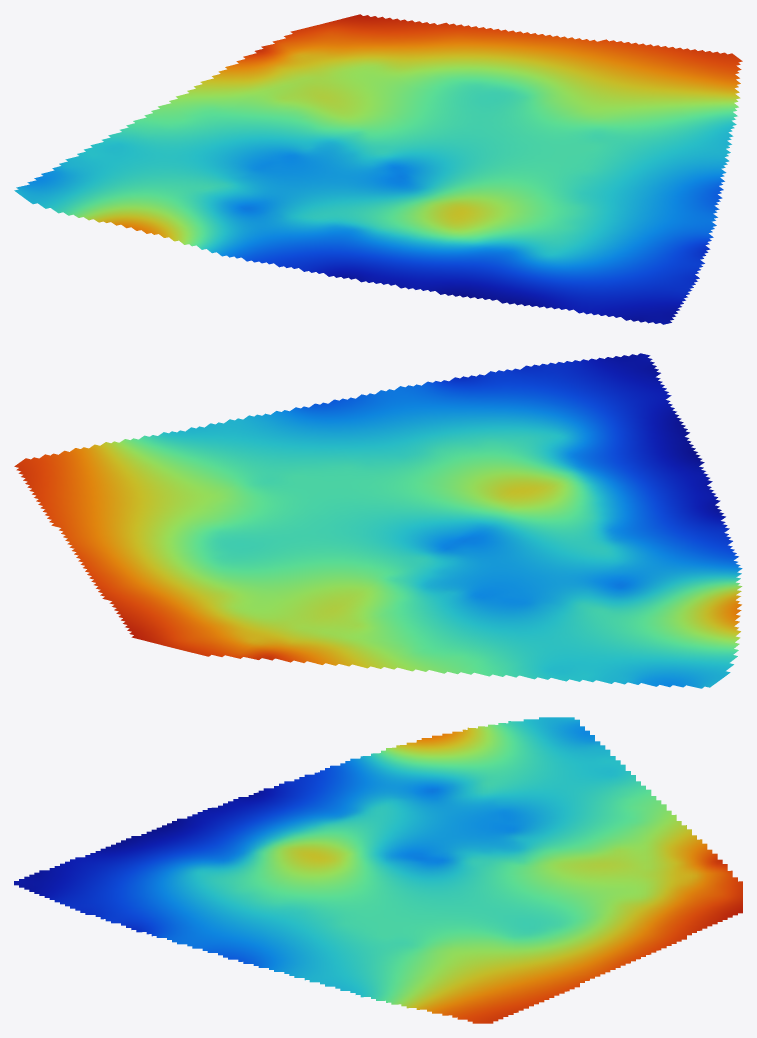
Rendered from conductivity.gltf.
The picture shows the model from 3 angles, top to bottom: view 1: azimuth 30°, elevation 25°; view 2: azimuth 150°, elevation 25°; view 3: azimuth 270°, elevation 25°; orthographic projection. The views are drawn at different scales.
Parts seen in each view (by area): view 1: conductivity_kriging; view 2: conductivity_kriging; view 3: conductivity_kriging.
Boxes of the visible parts, bbox=[...] form: conductivity_kriging: bbox=[14, 14, 742, 324]; conductivity_kriging: bbox=[14, 353, 742, 688]; conductivity_kriging: bbox=[14, 717, 742, 1023].
Size of the model in its own units: 648 by 6.75 by 644.
1 material, 1 textured.
